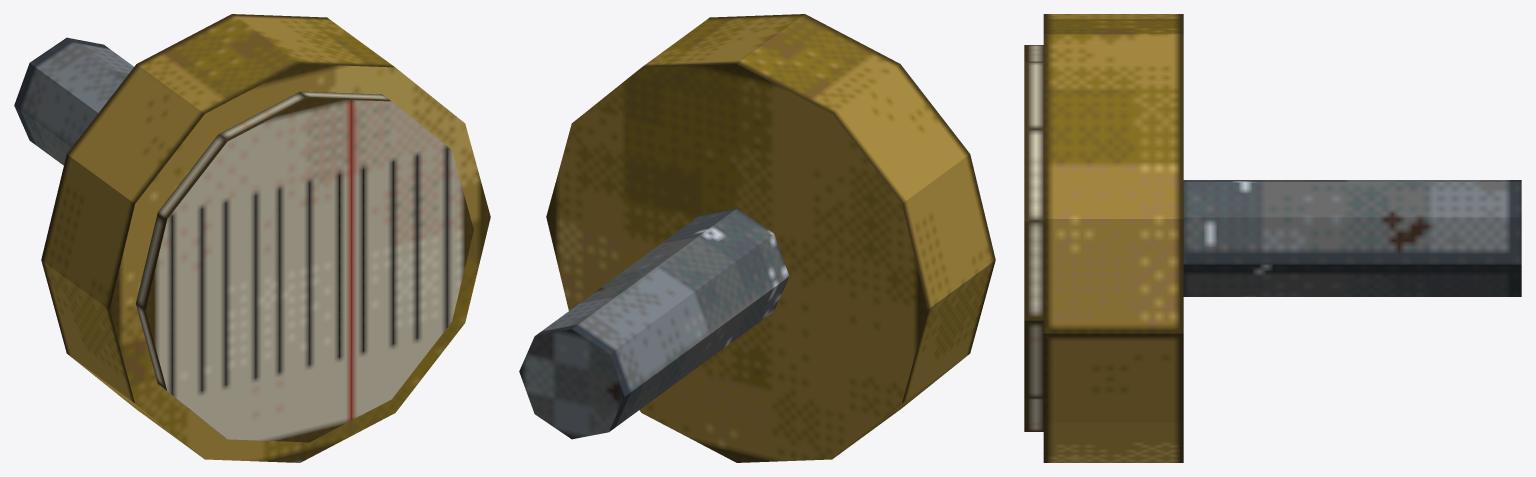
Rendered from SM_Gauge_Wall_01.fbx.
3 views of the same model, side by side, from view 1: azimuth 30°, elevation 25°; view 2: azimuth 150°, elevation 25°; view 3: azimuth 270°, elevation 25° (orthographic). The views are drawn at different scales.
Visible parts, largest first — view 1: SM_Gauge_Wall_01; view 2: SM_Gauge_Wall_01; view 3: SM_Gauge_Wall_01.
Part boxes in pixels (box(x1,y1,x2,y2)): SM_Gauge_Wall_01: box(14, 14, 490, 462); SM_Gauge_Wall_01: box(519, 14, 995, 462); SM_Gauge_Wall_01: box(1024, 14, 1521, 462).
Size of the model in its own units: 0.116 by 0.116 by 0.128.
1 material, 1 textured.
